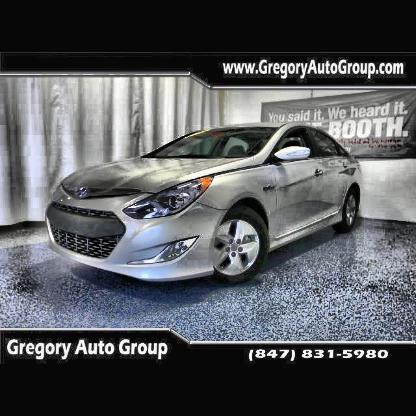Hyundai Sonata Hybrid Sedan 2012: (47, 125, 363, 284)
